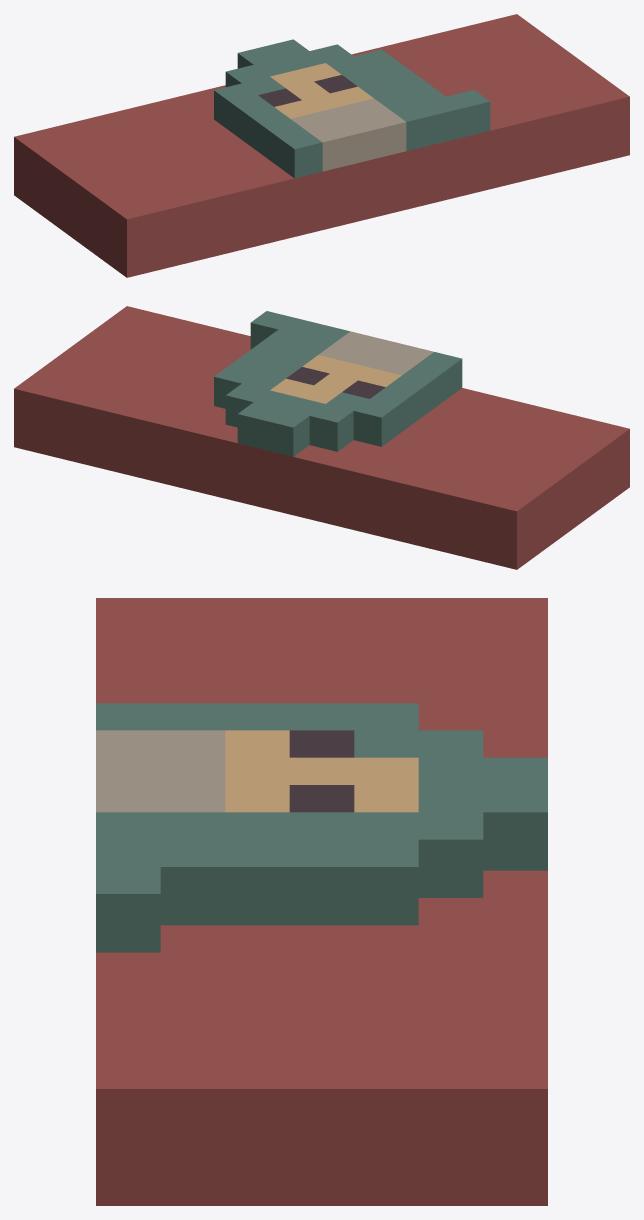
Rendered from dunDoll10.obj.
3 renders of one model, top to bottom at view 1: azimuth 30°, elevation 25°; view 2: azimuth 150°, elevation 25°; view 3: azimuth 270°, elevation 25°, orthographic. The views are drawn at different scales.
Bounding box in the file's own units: 1.8 × 0.3 × 0.7.
Materials: 1 (1 with a texture image).
